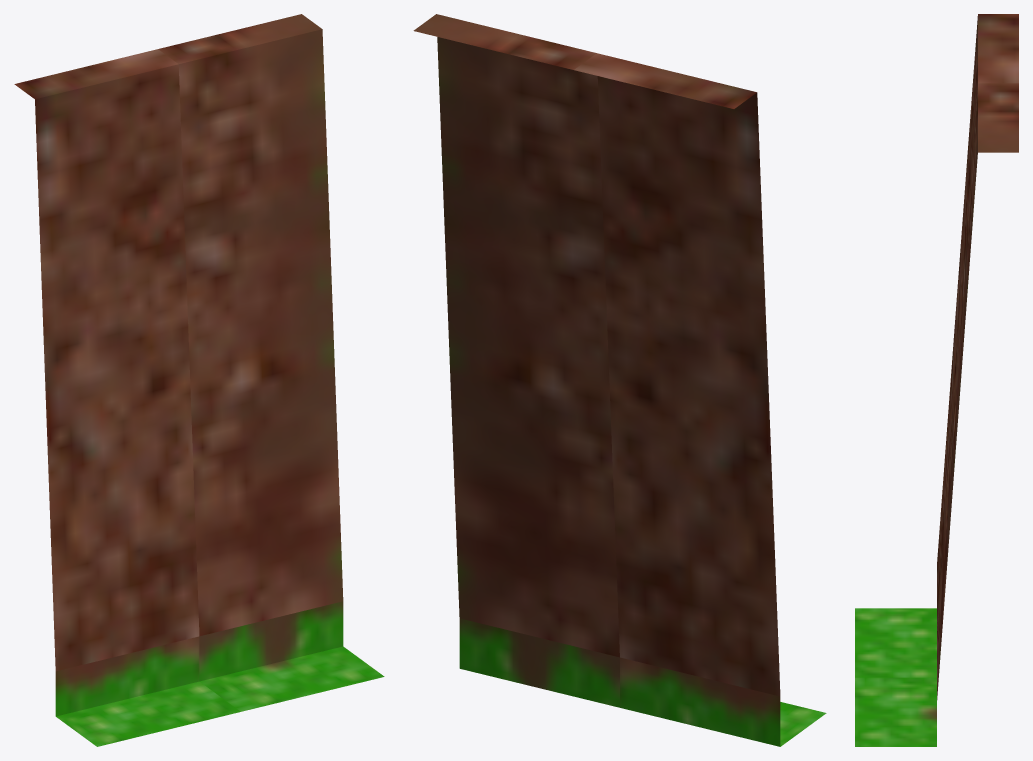
The model's file is mountain_03_GEO.fbx.
The picture shows the model from 3 angles, left to right: view 1: azimuth 30°, elevation 25°; view 2: azimuth 150°, elevation 25°; view 3: azimuth 270°, elevation 25°; orthographic projection. The views are drawn at different scales.
Visible parts, largest first — view 1: mountain_03_GEO; view 2: mountain_03_GEO; view 3: mountain_03_GEO.
Boxes of the visible parts, <box> form: mountain_03_GEO: <box>14,14,384,746</box>; mountain_03_GEO: <box>413,14,826,746</box>; mountain_03_GEO: <box>855,14,1018,746</box>.
Size of the model in its own units: 10 by 20 by 5.
